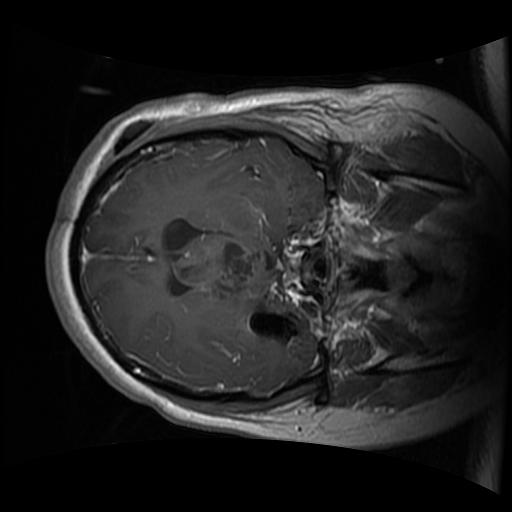glioma: (156, 216, 305, 347)
